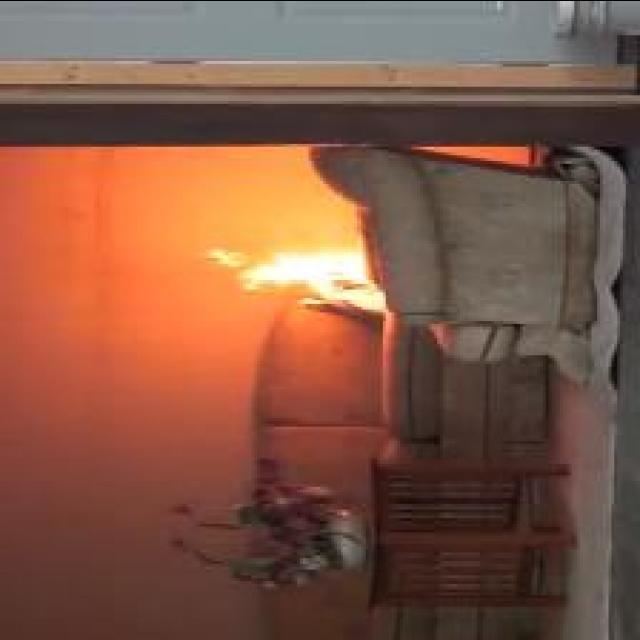Fire: (207, 242, 387, 310)
